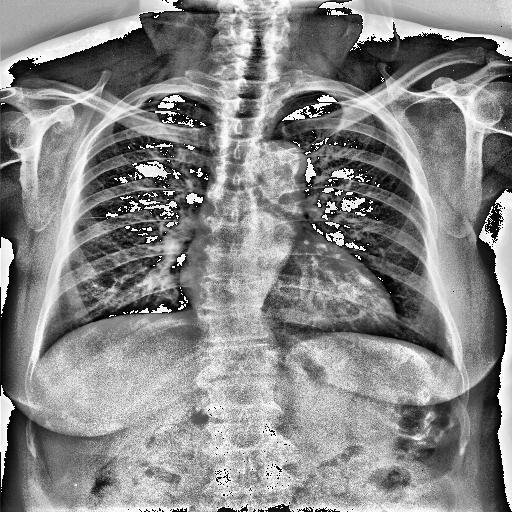0- Aortic enlargement: (250, 138, 306, 206), (248, 141, 306, 193), (249, 140, 307, 189)
11- Pleural thickening: (325, 88, 379, 110), (320, 88, 372, 108), (112, 92, 150, 118)
3- Cardiomegaly: (178, 265, 398, 338)
